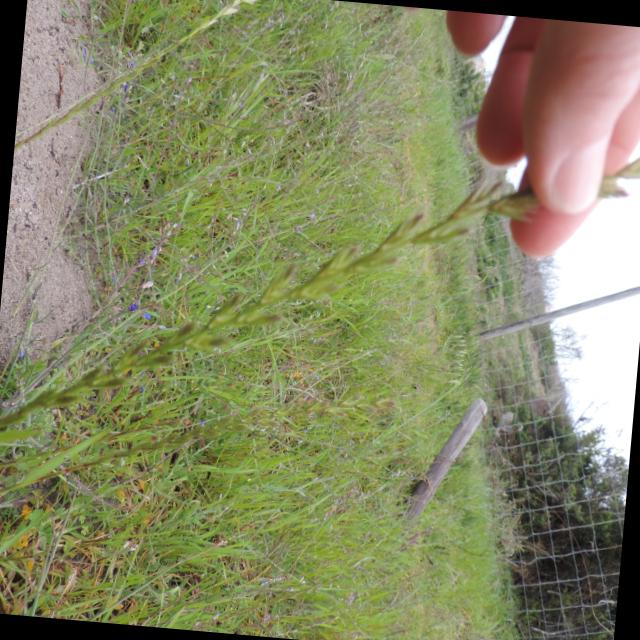Lolium: (0, 72, 627, 513)
